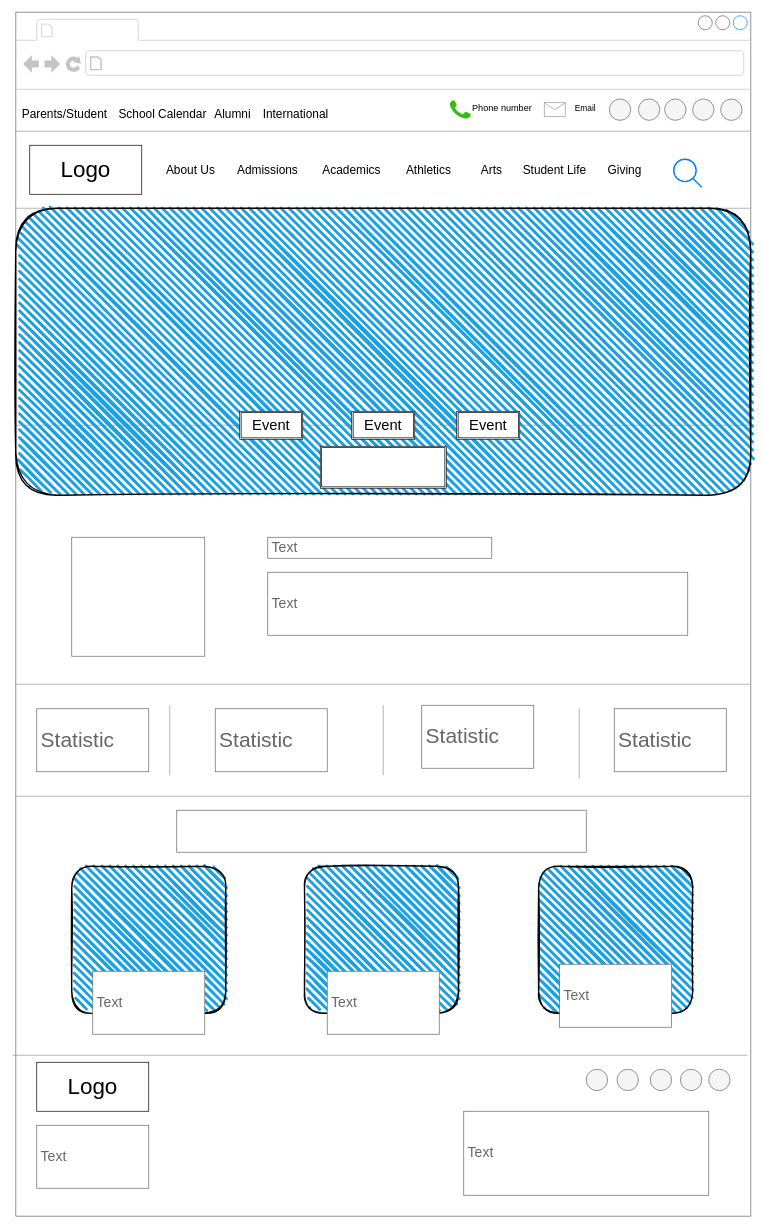
Some shapes in this 764 by 1229 pixel diagram are drawn without their labels. Each missing label, with the centre of its shape:
Growing in God's Grace: point (138, 596)
https://www.wlhs.net: point (194, 63)
More events: point (383, 467)
News & Announcements: point (381, 831)
Page 1: point (96, 29)
